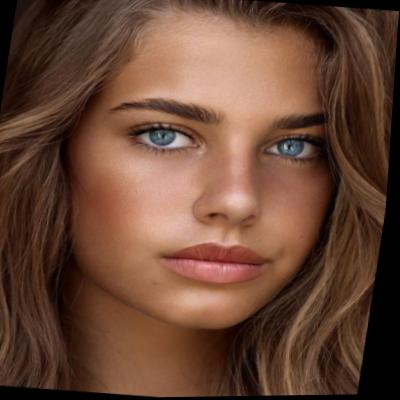netural: (52, 3, 362, 344)
